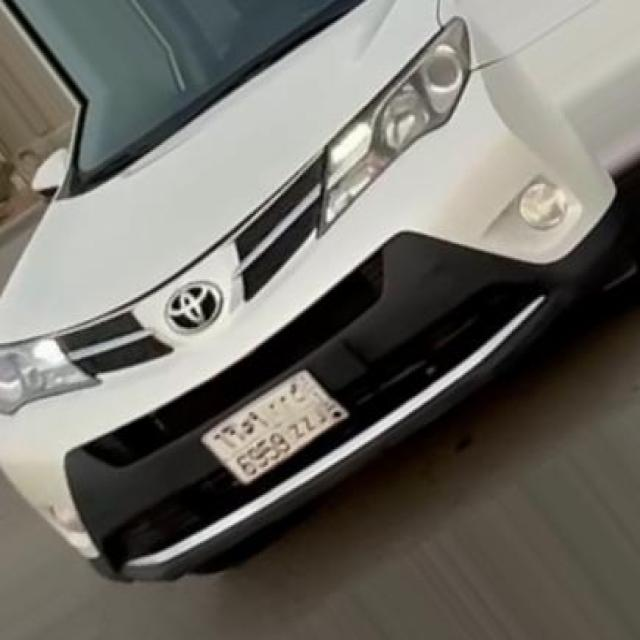Car-plate: (182, 351, 373, 511)
